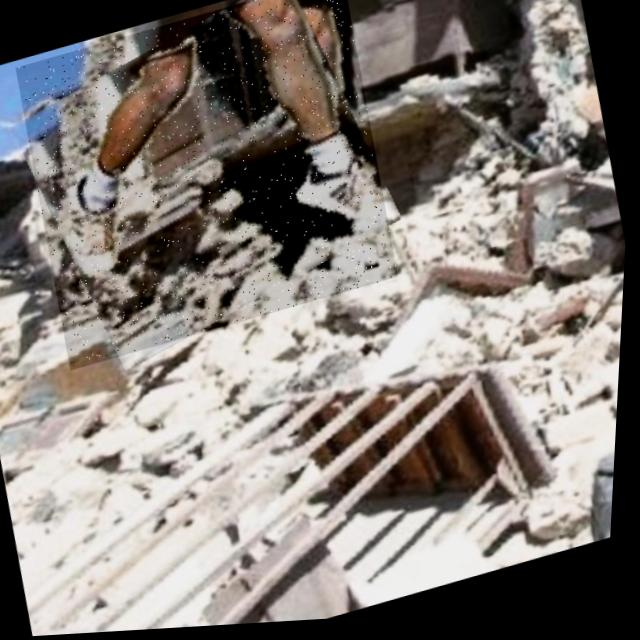Person in Rubble: (4, 0, 413, 374)
